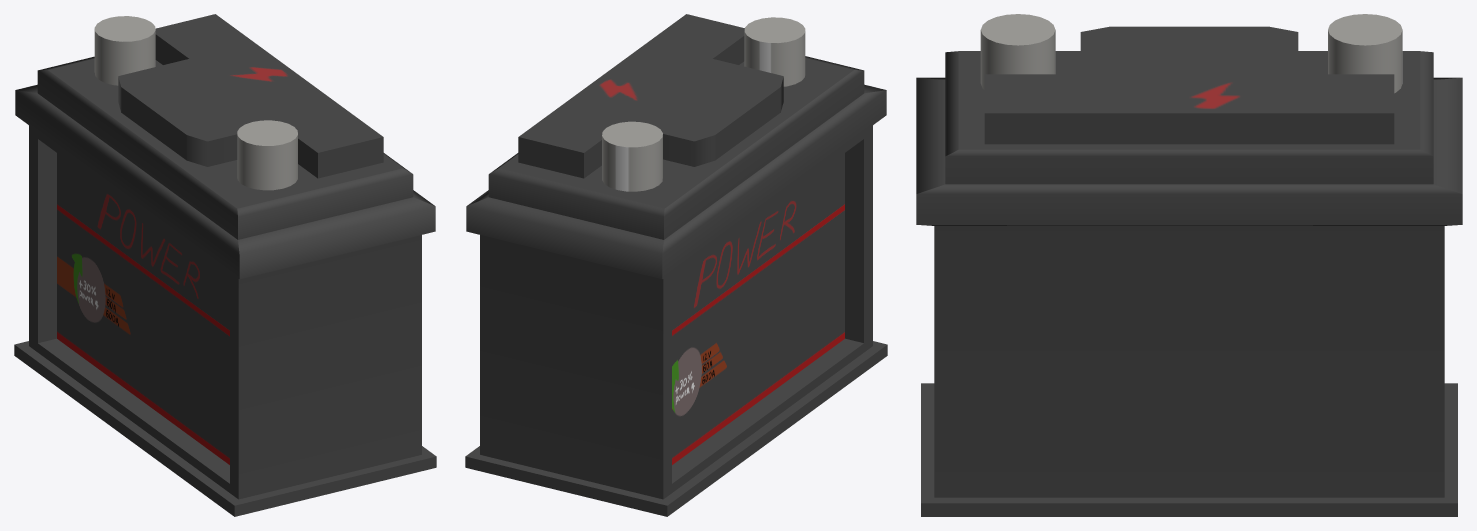
File: Battery.fbx
The picture shows the model from 3 angles, left to right: view 1: azimuth 30°, elevation 25°; view 2: azimuth 150°, elevation 25°; view 3: azimuth 270°, elevation 25°; orthographic projection. The views are drawn at different scales.
Visible parts, largest first — view 1: pCylinder3; view 2: pCylinder3; view 3: pCylinder3.
Part boxes in pixels (left/top/right/bottom): pCylinder3: left=14, top=14, right=436, bottom=516; pCylinder3: left=465, top=14, right=887, bottom=516; pCylinder3: left=916, top=14, right=1462, bottom=516.
Bounding box in the file's own units: 3.12 × 4.98 × 6.01.
